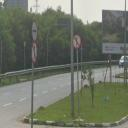NoSeguir: (72, 34, 82, 49), (32, 42, 37, 64)
